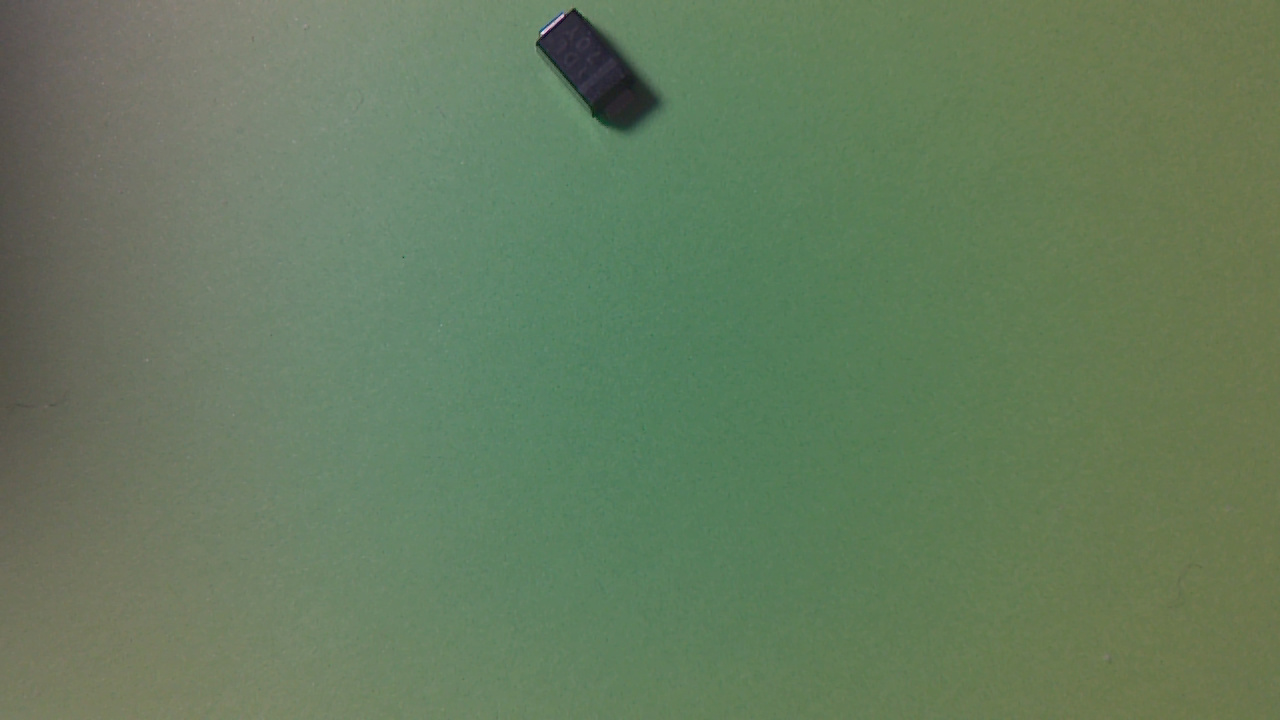Diode: (538, 12, 649, 127)
